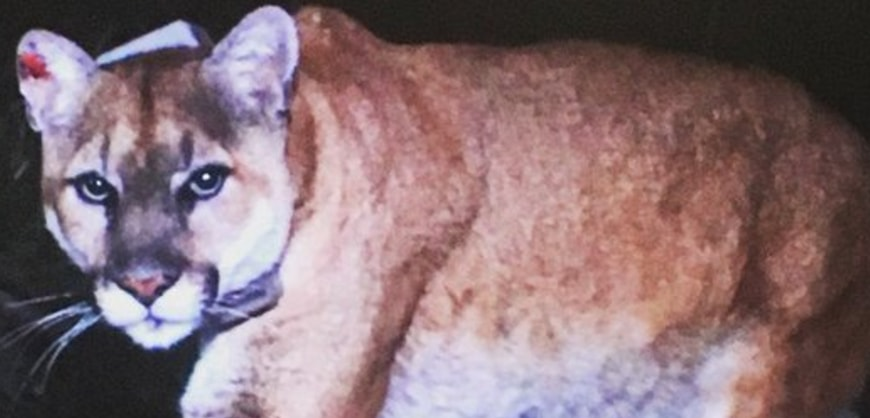Mountain Lion: (8, 15, 862, 413)
